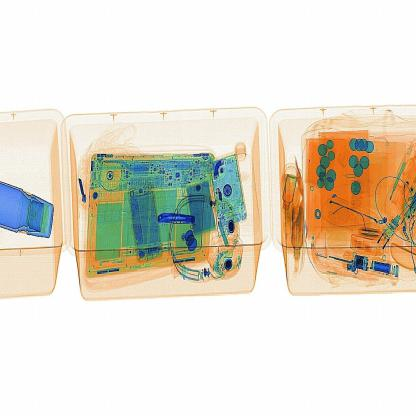knife: (150, 208, 198, 234)
